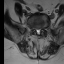CCS_normal: (37, 25, 39, 37)
LFS_severe_stenosis: (41, 25, 43, 32)
LLS_stenosis: (39, 25, 41, 34)
RFS_severe_stenosis: (33, 24, 35, 32)
RLS_normal: (35, 26, 37, 34)
